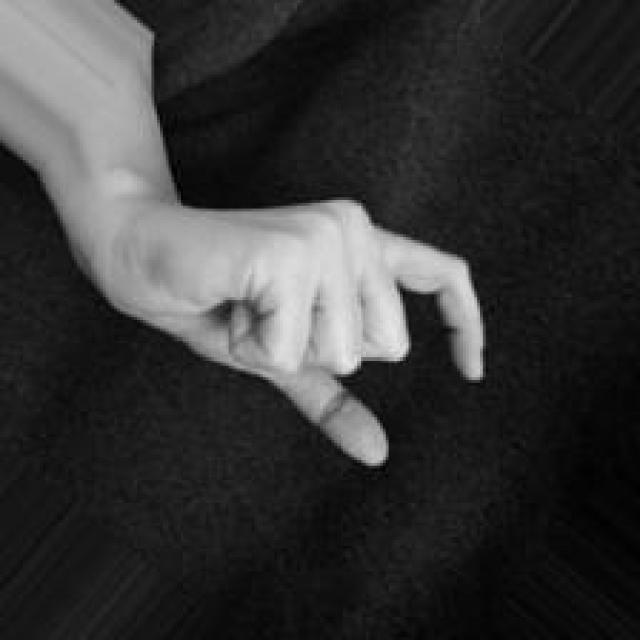C: (178, 196, 488, 471)
